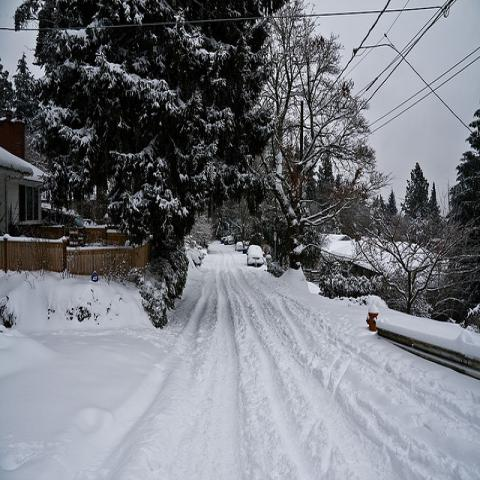car: (247, 245, 264, 265), (234, 241, 243, 250), (228, 236, 234, 242), (224, 236, 228, 245), (221, 237, 226, 243), (232, 232, 236, 239)
